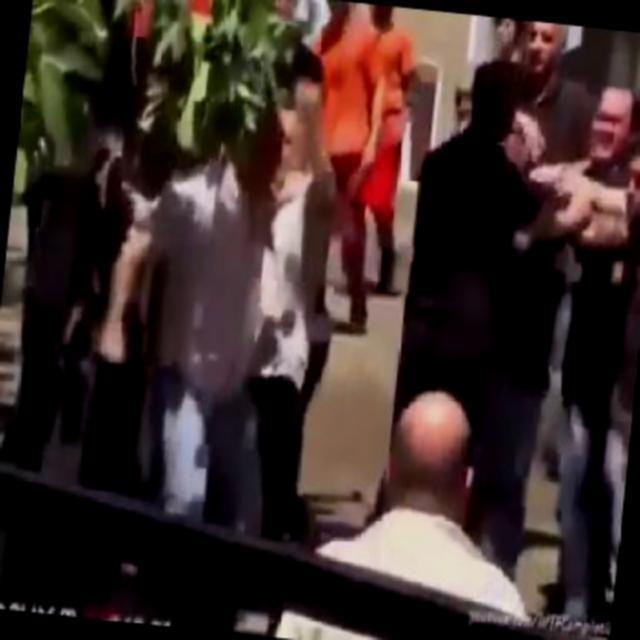fight: (98, 53, 347, 394)
